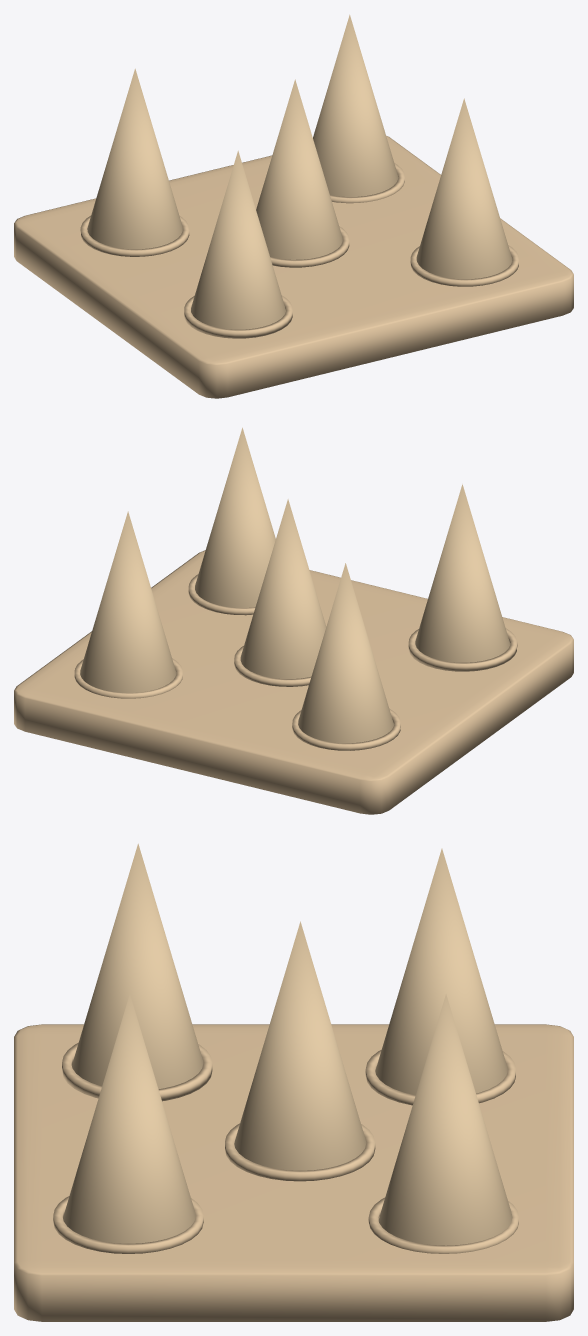
Rendered from PlataformaPinchos.fbx.
The picture shows the model from 3 angles, top to bottom: view 1: azimuth 30°, elevation 25°; view 2: azimuth 150°, elevation 25°; view 3: azimuth 270°, elevation 25°; orthographic projection. The views are drawn at different scales.
Visible parts, largest first — view 1: Cube, Cono.005; view 2: Cube, Cono.005; view 3: Cube, Cono.005.
Part boxes in pixels (<box>): Cube: <box>14,136,573,398</box>; Cono.005: <box>87,14,512,329</box>; Cube: <box>14,550,573,814</box>; Cono.005: <box>80,427,510,743</box>; Cube: <box>14,1024,573,1321</box>; Cono.005: <box>63,843,512,1245</box>.
Bounding box in the file's own units: 213 × 111 × 201.
